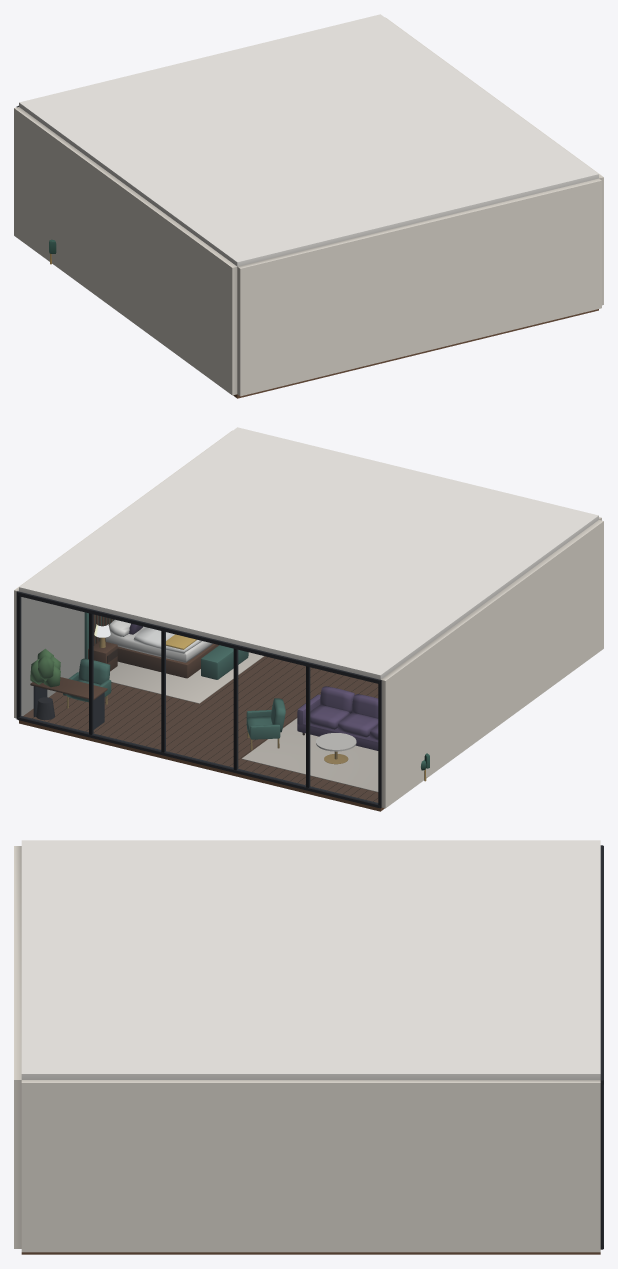
Rendered from os-suite.glb.
The picture shows the model from 3 angles, top to bottom: view 1: azimuth 30°, elevation 25°; view 2: azimuth 150°, elevation 25°; view 3: azimuth 270°, elevation 25°; orthographic projection. The views are drawn at different scales.
Parts seen in each view (by area): view 1: Room_ceiling, Room_wall, Room_floor; view 2: Room_ceiling, Room_glass, Room_wall, Room_floor, Room_frameDark, Room_rug, Room_fabric, Room_fabric2, Room_wood, Room_woodDark, Room_linen, Room_leaf (+2 smaller); view 3: Room_ceiling, Room_wall, Room_floor, Room_frameDark.
Part boxes in pixels (box(x1,y1,x2,y2)): Room_ceiling: box(19, 14, 598, 266); Room_wall: box(14, 17, 603, 396); Room_floor: box(233, 309, 598, 398); Room_ceiling: box(19, 427, 598, 679); Room_glass: box(21, 597, 377, 803); Room_wall: box(14, 430, 603, 808); Room_floor: box(19, 656, 384, 811); Room_frameDark: box(16, 591, 381, 808); Room_rug: box(109, 652, 378, 792); Room_fabric: box(129, 623, 378, 750); Room_fabric2: box(63, 645, 429, 770); Room_wood: box(30, 614, 218, 699); Room_woodDark: box(32, 649, 377, 801); Room_linen: box(105, 619, 212, 662); Room_leaf: box(30, 648, 60, 687); Room_ceiling: box(21, 840, 600, 1079); Room_wall: box(14, 846, 600, 1252); Room_floor: box(21, 1252, 600, 1254); Room_frameDark: box(600, 845, 603, 1249).
Size of the model in its own units: 8.95 by 3.1 by 9.17.
